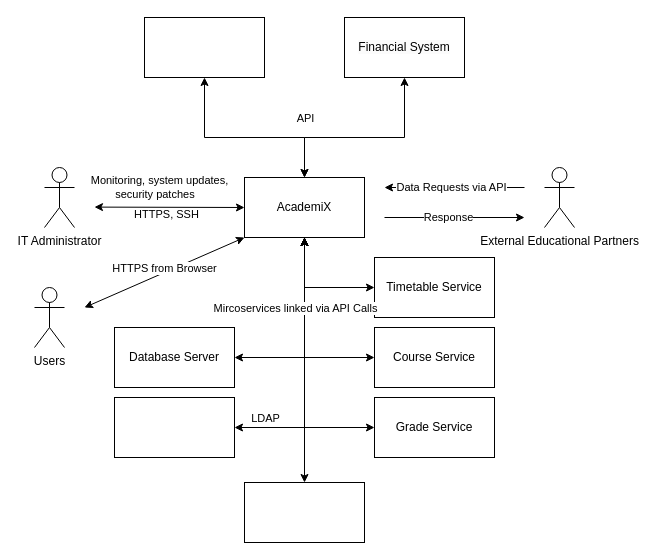
The diagram is 656 pixels wide and 560 high, and some of its shapes have lost their labels. Here are the shapes that lost their labels. From the top down, the centre of each, then its label:
At [204,47]: "Student Information System".
At [174,427]: "Directory Server".
At [304,512]: "Web Server".
